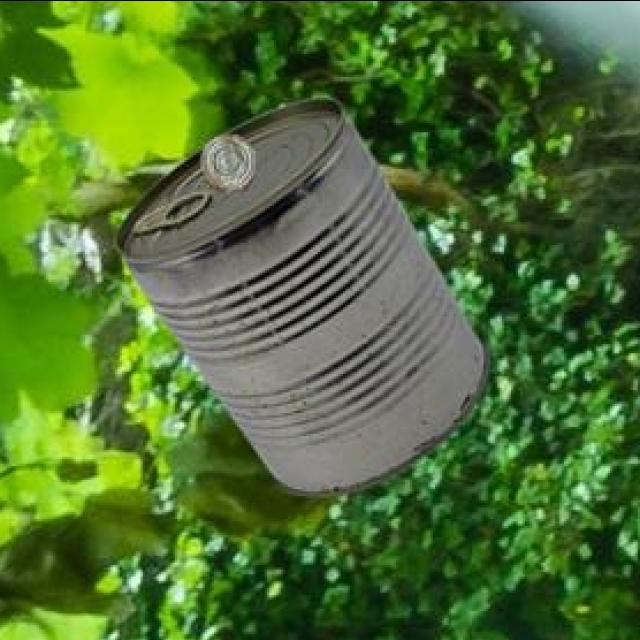logam: (112, 100, 487, 498), (197, 137, 252, 192)
